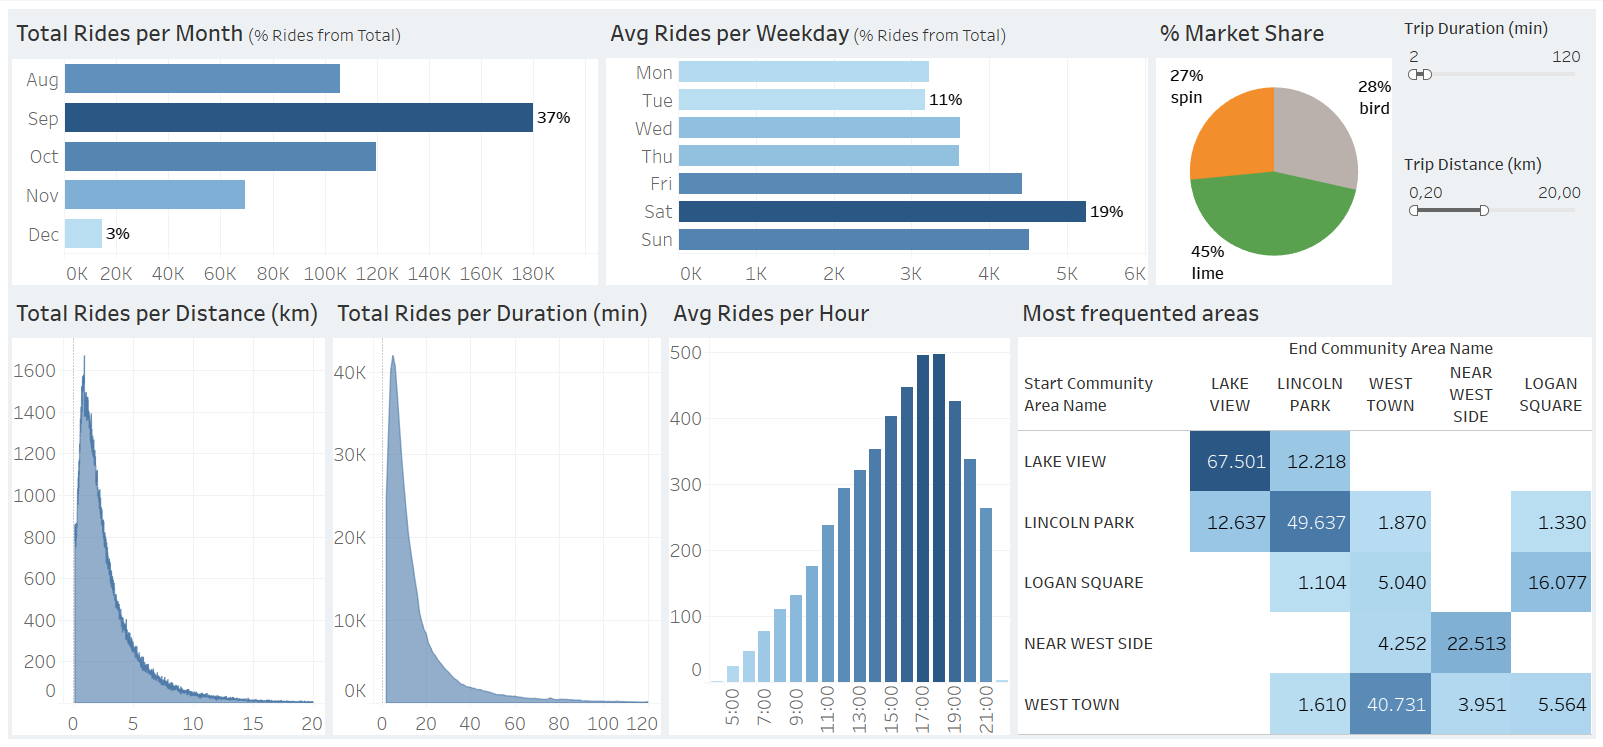

The dashboard page shown, as its layout file describes it:
{"tool":"tableau","page":{"name":"Dashboard 1","canvas":[1000,1000],"units":"permille","ordinal":0},"visuals":[{"type":"worksheet","title":"Month","mark":"Automatic","rows":["Calculation_1809039725246722051"],"cols":["Calculation_1809039725247815684"],"box":[5,10.7,370.3,375.3]},{"type":"worksheet","title":"Weekday","mark":"Automatic","rows":["Calculation_1809039725246529538"],"cols":["Calculation_1809039725397532679"],"box":[375.3,10.7,342.9,375.3]},{"type":"worksheet","title":"Vendor","mark":"Pie","box":[718.2,10.7,152.1,375.3]},{"type":"filter","title":"Duration","param":"[federated.150nl7a06rkbto19ctb4g0n73al2].[none:Trip Duration (min):qk]","box":[872.8,16.1,119.7,182.3]},{"type":"filter","title":"Distance","param":"[federated.150nl7a06rkbto19ctb4g0n73al2].[none:Trip Distance (km):qk]","box":[872.8,198.4,119.7,182.3]},{"type":"worksheet","title":"Distance","mark":"Area","rows":["Calculation_1809039725247815684"],"cols":["Trip Distance (km)"],"box":[5,386.1,200.3,603.2]},{"type":"worksheet","title":"Duration","mark":"Area","rows":["Calculation_1809039725247815684"],"cols":["Trip Duration (min)"],"box":[205.3,386.1,209.4,603.2]},{"type":"worksheet","title":"Time","mark":"Bar","rows":["Calculation_1809039725259685894"],"cols":["Calculation_1809039725245448193"],"box":[414.7,386.1,217.7,603.2]},{"type":"worksheet","title":"Area","mark":"Automatic","rows":["Start Community Area Name"],"cols":["End Community Area Name"],"box":[632.4,386.1,362.6,603.2]}]}

Visuals, with their boxes on the dashboard's canvas, which has no fixed pixel size, in thousandths of its width and height (x1, y1, x2, y2). These are canvas units, not pixel positions in the 1603x747 screenshot, which may show the page scaled, cropped or inside an application window:
"Month" worksheet: select_region(5, 11, 375, 386)
"Weekday" worksheet: select_region(375, 11, 718, 386)
"Vendor" worksheet (Pie marks): select_region(718, 11, 870, 386)
"Duration" filter: select_region(873, 16, 992, 198)
"Distance" filter: select_region(873, 198, 992, 381)
"Distance" worksheet (Area marks): select_region(5, 386, 205, 989)
"Duration" worksheet (Area marks): select_region(205, 386, 415, 989)
"Time" worksheet (Bar marks): select_region(415, 386, 632, 989)
"Area" worksheet: select_region(632, 386, 995, 989)
